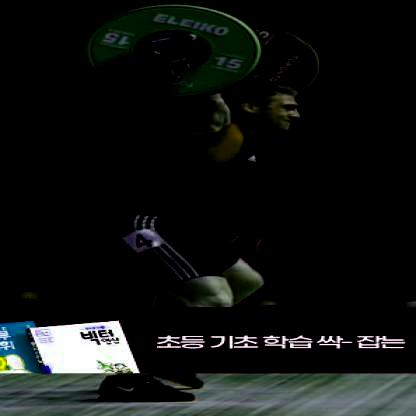Barbell: (138, 44, 177, 62)
